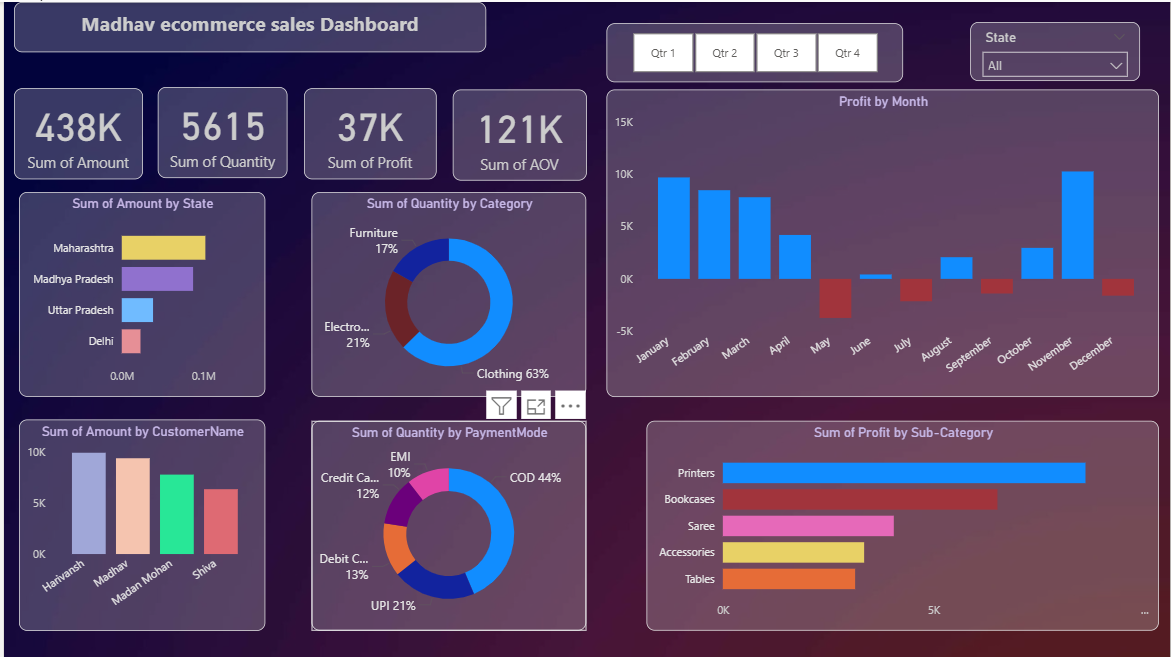

The dashboard page shown, as its layout file describes it:
{"tool":"powerbi","page":{"name":"Page 1","canvas":[1280,720],"ordinal":0},"visuals":[{"type":"textbox","box":[11,0,518.7,54.9],"z":0},{"type":"columnChart","title":" Profit by Month","fields":{"Category":["Orders.Order Date.Variation.Date Hierarchy.Month"],"Y":["Details.Profit"]},"box":[661.4,96.1,606.5,337.6],"z":1000},{"type":"barChart","fields":{"Category":["Details.Sub-Category"],"Y":["Details.Profit"]},"box":[705.3,459.7,562.6,230.5],"z":2000},{"type":"donutChart","fields":{"Category":["Details.Category"],"Y":["Details.Quantity"]},"box":[337.6,208.6,301.9,225],"z":3000},{"type":"donutChart","fields":{"Y":["Details.Quantity"],"Category":["Details.PaymentMode"]},"box":[337.6,459.7,301.9,230.5],"z":4000},{"type":"card","fields":{"Values":["Details.Amount"]},"box":[11,94.7,141.3,100.2],"z":5000},{"type":"card","fields":{"Values":["Details.Quantity"]},"box":[168.8,93.3,142.7,100.2],"z":6000},{"type":"card","fields":{"Values":["Details.Profit"]},"box":[329.3,94.7,145.5,100.2],"z":7000},{"type":"card","fields":{"Values":["Details.AOV"]},"box":[492.6,96.1,146.8,100.2],"z":8000},{"type":"barChart","fields":{"Category":["Orders.State"],"Y":["Details.Amount"]},"box":[16.5,208.6,270.3,225],"z":8001},{"type":"columnChart","fields":{"Category":["Orders.CustomerName"],"Y":["Details.Amount"]},"box":[16.5,458.3,270.3,231.9],"z":8002},{"type":"slicer","fields":{"Values":["Orders.Order Date.Variation.Date Hierarchy.Quarter"]},"box":[661.4,23.3,325.2,64.5],"z":8003},{"type":"slicer","fields":{"Values":["Orders.State"]},"box":[1060.7,22,186.6,64.5],"z":8004}]}

Visuals, with their boxes in screenshot pixels (x1, y1, x2, y2), scaled from the page's 1280x720 canvas onto the 1171x657 screenshot:
textbox: bbox=[10, 0, 485, 50]
" Profit by Month" columnChart: bbox=[605, 88, 1160, 396]
barChart - Details.Sub-Category x Details.Profit: bbox=[645, 419, 1160, 630]
donutChart - Details.Category x Details.Quantity: bbox=[309, 190, 585, 396]
donutChart - Details.Quantity x Details.PaymentMode: bbox=[309, 419, 585, 630]
card - Details.Amount: bbox=[10, 86, 139, 178]
card - Details.Quantity: bbox=[154, 85, 285, 177]
card - Details.Profit: bbox=[301, 86, 434, 178]
card - Details.AOV: bbox=[451, 88, 585, 179]
barChart - Orders.State x Details.Amount: bbox=[15, 190, 262, 396]
columnChart - Orders.CustomerName x Details.Amount: bbox=[15, 418, 262, 630]
slicer - Orders.Order Date.Variation.Date Hierarchy.Quarter: bbox=[605, 21, 903, 80]
slicer - Orders.State: bbox=[970, 20, 1141, 79]
